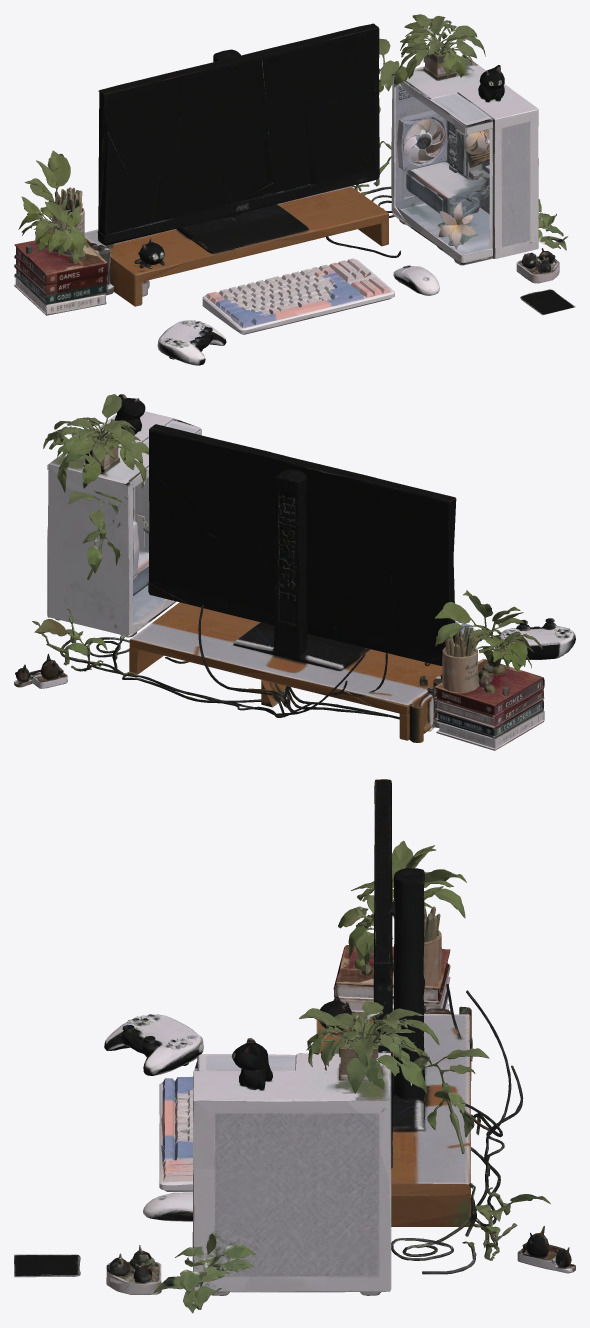
File: desk.glb
The picture shows the model from 3 angles, top to bottom: view 1: azimuth 30°, elevation 25°; view 2: azimuth 150°, elevation 25°; view 3: azimuth 270°, elevation 25°; orthographic projection. The views are drawn at different scales.
Parts seen in each view (by area): view 1: output_unwrapped; view 2: output_unwrapped; view 3: output_unwrapped.
Part boxes in pixels (box(x1,y1,x2,y2)): output_unwrapped: box(14, 14, 575, 365); output_unwrapped: box(14, 394, 575, 750); output_unwrapped: box(14, 779, 575, 1313).
Size of the model in its own units: 1.89 by 0.7781 by 1.43.
Materials: 1 (1 with a texture image).
